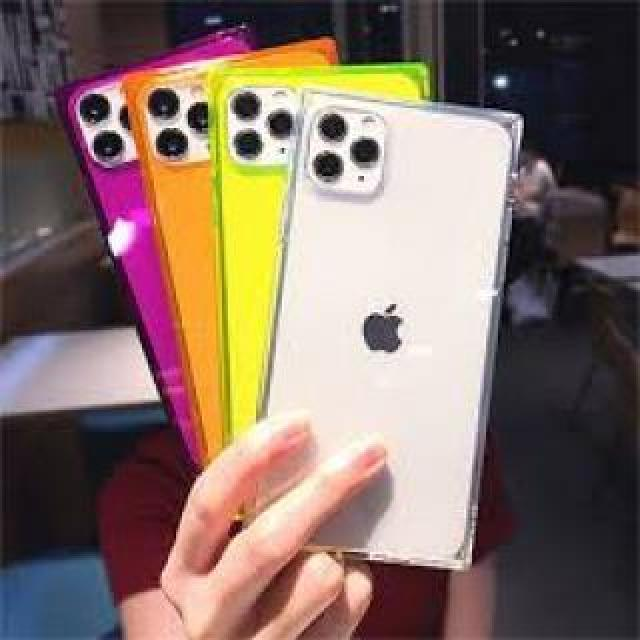smart phone: (280, 87, 527, 585), (213, 8, 342, 555), (130, 25, 255, 482)
